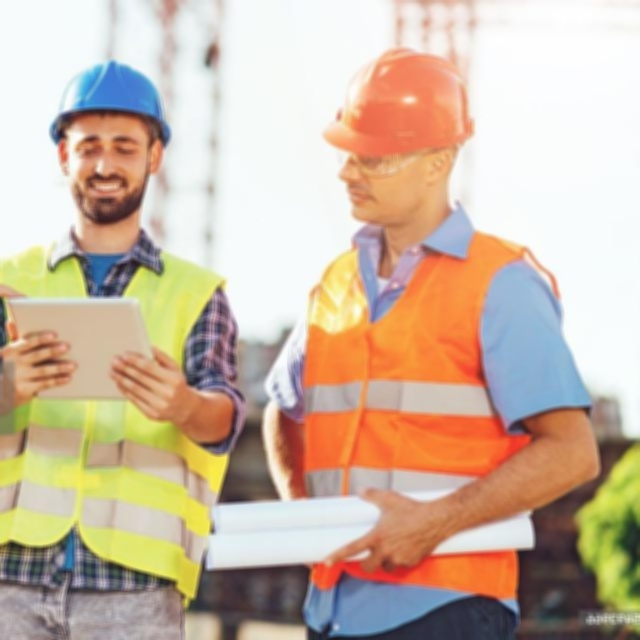Con_Casco: (322, 50, 473, 223), (51, 57, 176, 226)
Con_Chaleco: (295, 233, 555, 580), (0, 231, 218, 574)
